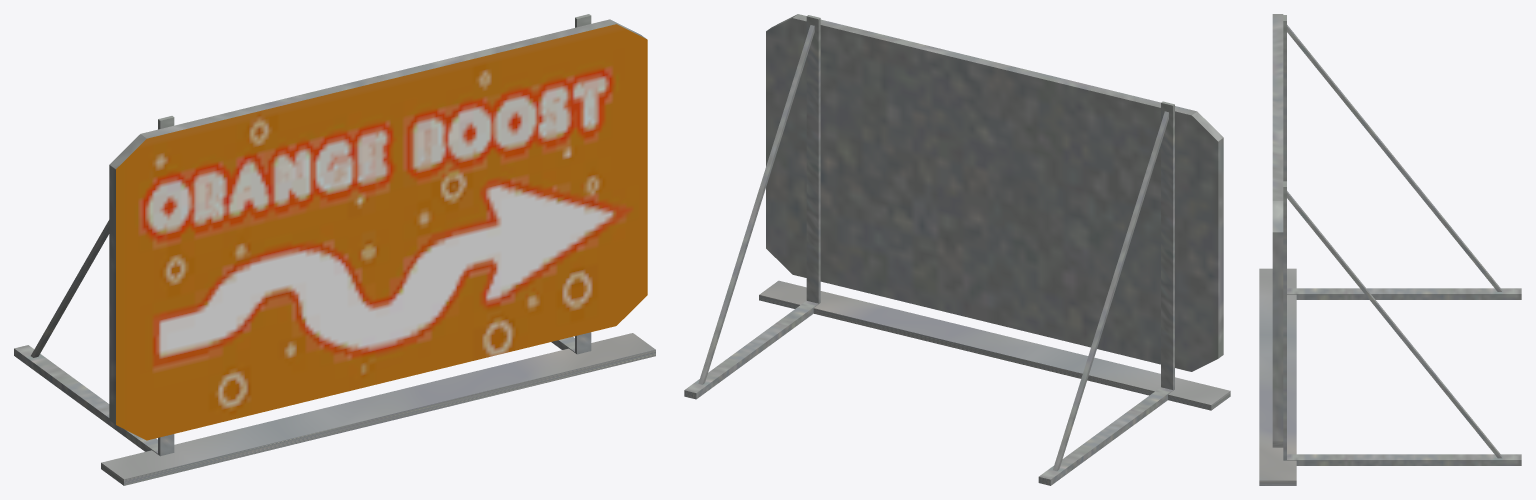
File: 00_03_outside_billboard_A.dae
The picture shows the model from 3 angles, left to right: view 1: azimuth 30°, elevation 25°; view 2: azimuth 150°, elevation 25°; view 3: azimuth 270°, elevation 25°; orthographic projection. The views are drawn at different scales.
Parts seen in each view (by area): view 1: billboard_A; view 2: billboard_A; view 3: billboard_A.
Boxes of the visible parts, bbox=[...] form: billboard_A: bbox=[14, 14, 655, 485]; billboard_A: bbox=[684, 14, 1230, 485]; billboard_A: bbox=[1259, 14, 1521, 485].
Bounding box in the file's own units: 2.16 × 1.33 × 1.13.
